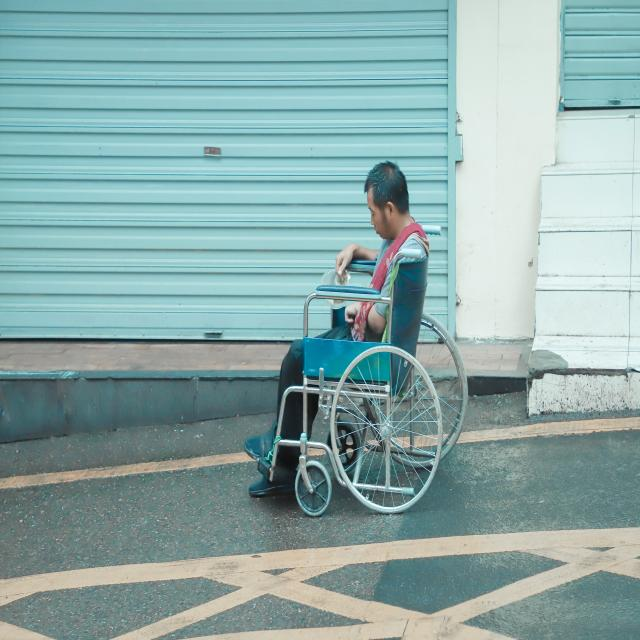wheelchairs: (258, 224, 467, 514)
